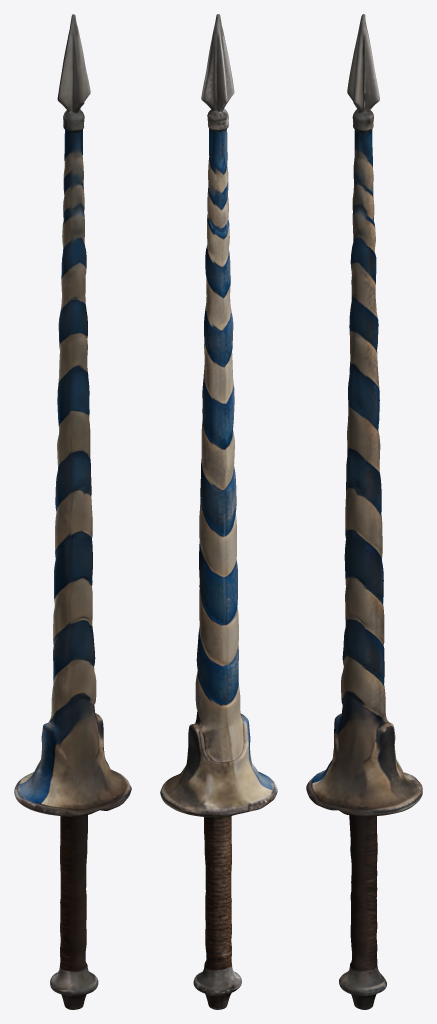
Rendered from blue_tourney_lance.glb.
3 views of the same model, side by side, from view 1: azimuth 30°, elevation 25°; view 2: azimuth 210°, elevation 25°; view 3: azimuth 330°, elevation 25° (orthographic).
Visible parts, largest first — view 1: blue_tourney_lance; view 2: blue_tourney_lance; view 3: blue_tourney_lance.
Part boxes in pixels (x1,y1,x2,y2): blue_tourney_lance: [14, 14, 131, 1009]; blue_tourney_lance: [160, 14, 277, 1009]; blue_tourney_lance: [306, 14, 422, 1009].
Size of the model in its own units: 0.3226 by 3 by 0.3121.
1 material, 1 textured.
